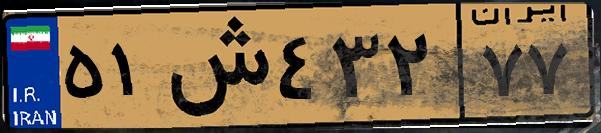1: (110, 28, 158, 98)
2: (385, 28, 445, 110)
3: (330, 28, 385, 110)
4: (270, 28, 330, 110)
5: (57, 26, 110, 100)
7: (475, 38, 525, 113), (525, 38, 570, 115)
ش: (158, 12, 270, 120)
